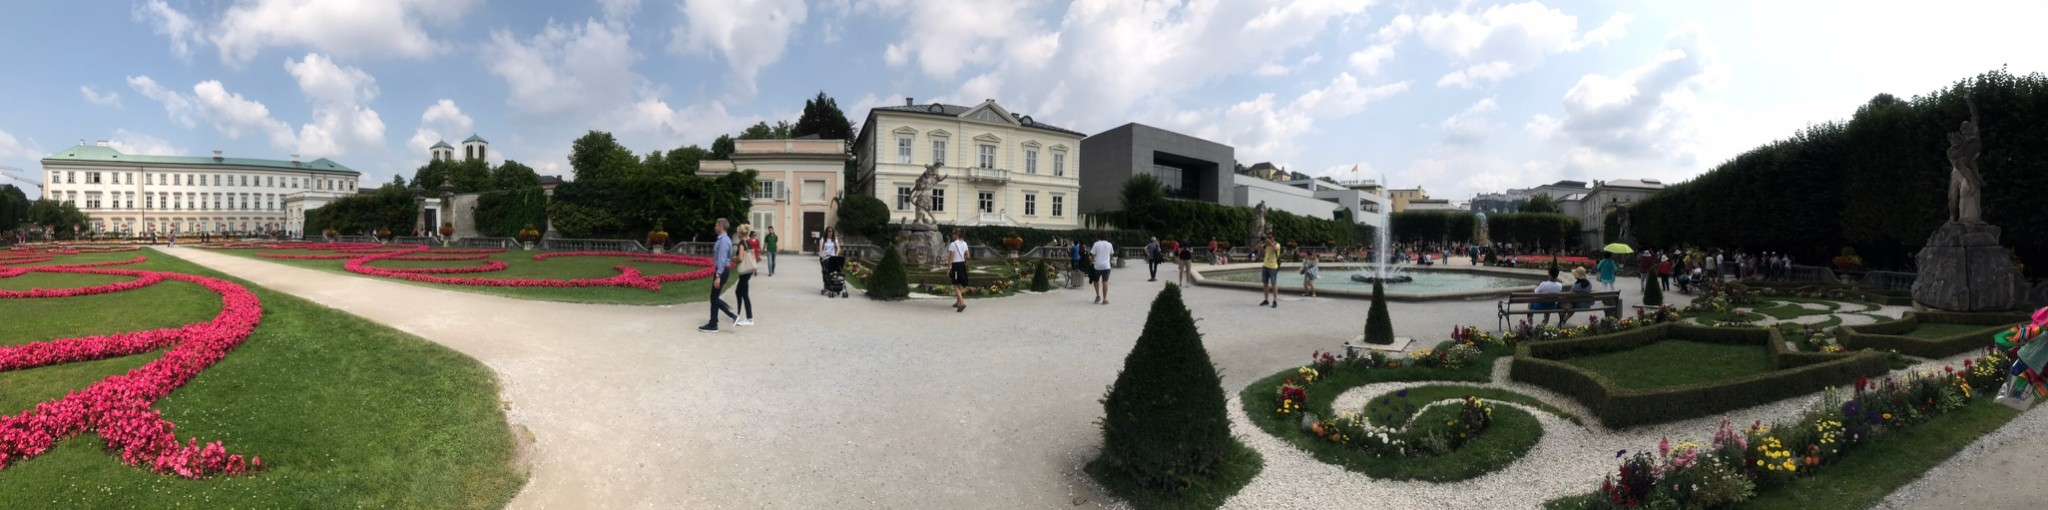people: (699, 212, 734, 336), (937, 233, 981, 321), (734, 233, 766, 324), (1257, 239, 1293, 312), (813, 230, 840, 303), (1096, 230, 1122, 303), (1563, 259, 1593, 321), (1537, 271, 1563, 324)
